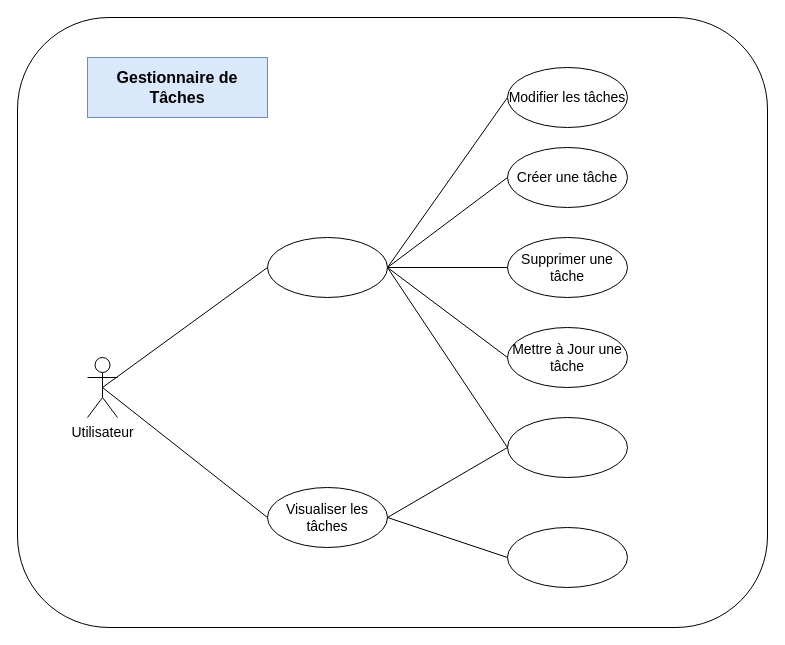
The diagram is 785 pixels wide and 645 high, and some of its shapes have lost their labels. Here are the shapes that lost their labels. From the top down, the centre of each, then its label:
the point at 327,267: Gérer les taches
the point at 567,447: Marquer une tâche comme Terminée
the point at 567,557: Trier les tâches
